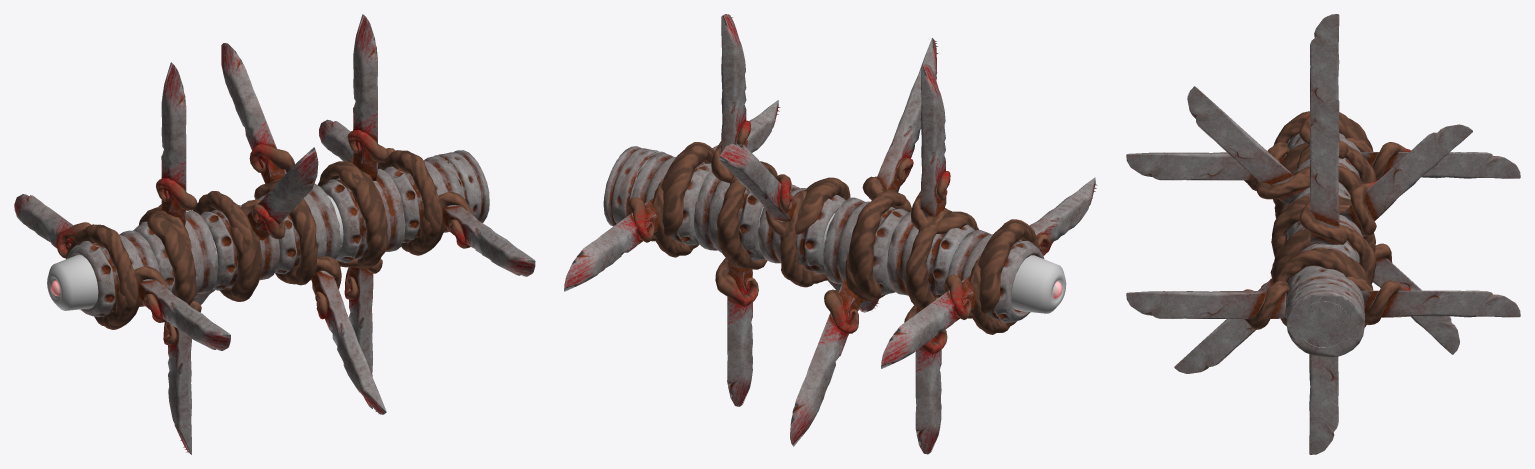
File: sword.fbx
3 renders of one model, left to right at view 1: azimuth 30°, elevation 25°; view 2: azimuth 150°, elevation 25°; view 3: azimuth 270°, elevation 25°, orthographic. The views are drawn at different scales.
Parts seen in each view (by area): view 1: sword; view 2: sword; view 3: sword.
Boxes of the visible parts, x1=… form: sword: x1=14, y1=14, x2=535, y2=454; sword: x1=564, y1=14, x2=1097, y2=454; sword: x1=1126, y1=14, x2=1520, y2=454.
Bounding box in the file's own units: 349 × 307 × 306.
